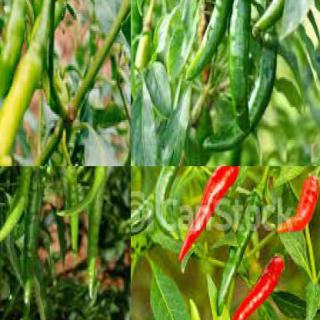green_chilli: (202, 42, 280, 151), (0, 20, 55, 165), (216, 186, 268, 318), (185, 0, 240, 81), (150, 166, 198, 240), (230, 0, 254, 135), (54, 166, 113, 218), (86, 177, 110, 301), (0, 0, 28, 102), (0, 166, 33, 251), (251, 0, 319, 39), (22, 175, 46, 272), (130, 181, 158, 260), (133, 16, 156, 77), (68, 166, 80, 258), (10, 280, 35, 319)
